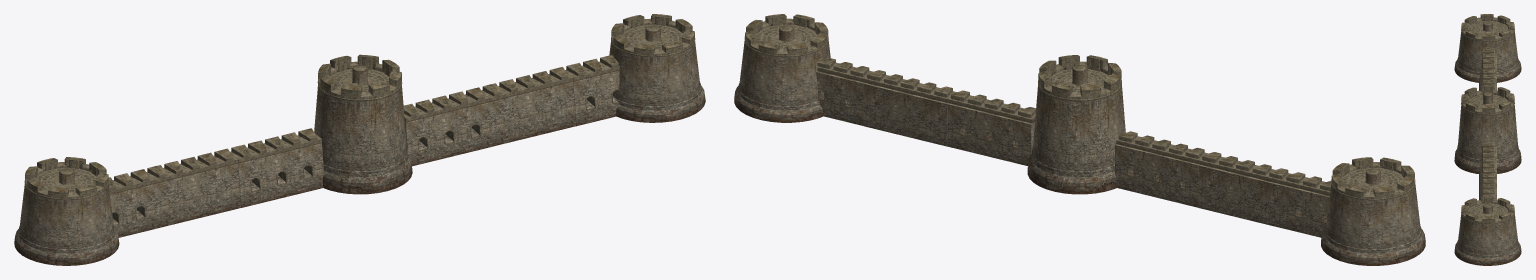
Rendered from curtain.glb.
3 views of the same model, side by side, from view 1: azimuth 30°, elevation 25°; view 2: azimuth 150°, elevation 25°; view 3: azimuth 270°, elevation 25° (orthographic). The views are drawn at different scales.
Parts seen in each view (by area): view 1: modular_fort_01_tower_round.001, modular_fort_01_tower_round.002, modular_fort_01_tower_round.003, modular_fort_01_wall_thick_straight_01.002, modular_fort_01_wall_thick_straight_01.001, modular_fort_01_wall_thick_straight_02.002, modular_fort_01_wall_thick_straight_02.003, modular_fort_01_wall_thick_straight_02.004, modular_fort_01_wall_thick_straight_02.001; view 2: modular_fort_01_tower_round.001, modular_fort_01_tower_round.002, modular_fort_01_tower_round.003, modular_fort_01_wall_thick_straight_02.003, modular_fort_01_wall_thick_straight_01.002, modular_fort_01_wall_thick_straight_01.001, modular_fort_01_wall_thick_straight_02.002, modular_fort_01_wall_thick_straight_02.004, modular_fort_01_wall_thick_straight_02.001; view 3: modular_fort_01_tower_round.001, modular_fort_01_tower_round.003, modular_fort_01_tower_round.002, modular_fort_01_wall_thick_straight_02.003, modular_fort_01_wall_thick_straight_01.002, modular_fort_01_wall_thick_straight_01.001, modular_fort_01_wall_thick_straight_02.001.
Boxes of the visible parts, <box> form: modular_fort_01_tower_round.001: <box>314,54,412,194</box>; modular_fort_01_tower_round.002: <box>14,157,119,265</box>; modular_fort_01_tower_round.003: <box>609,14,705,122</box>; modular_fort_01_wall_thick_straight_01.002: <box>481,67,576,146</box>; modular_fort_01_wall_thick_straight_01.001: <box>146,148,241,228</box>; modular_fort_01_wall_thick_straight_02.002: <box>230,128,323,207</box>; modular_fort_01_wall_thick_straight_02.003: <box>403,87,492,166</box>; modular_fort_01_wall_thick_straight_02.004: <box>565,55,619,126</box>; modular_fort_01_wall_thick_straight_02.001: <box>108,169,157,237</box>; modular_fort_01_tower_round.001: <box>1027,55,1125,194</box>; modular_fort_01_tower_round.002: <box>1321,157,1425,265</box>; modular_fort_01_tower_round.003: <box>734,14,830,122</box>; modular_fort_01_wall_thick_straight_02.003: <box>947,90,1035,165</box>; modular_fort_01_wall_thick_straight_01.002: <box>863,70,956,146</box>; modular_fort_01_wall_thick_straight_01.001: <box>1199,152,1291,228</box>; modular_fort_01_wall_thick_straight_02.002: <box>1115,131,1208,207</box>; modular_fort_01_wall_thick_straight_02.004: <box>816,57,872,125</box>; modular_fort_01_wall_thick_straight_02.001: <box>1282,172,1331,237</box>; modular_fort_01_tower_round.001: <box>1454,85,1521,173</box>; modular_fort_01_tower_round.003: <box>1454,196,1521,265</box>; modular_fort_01_tower_round.002: <box>1454,14,1521,82</box>; modular_fort_01_wall_thick_straight_02.003: <box>1479,141,1496,199</box>; modular_fort_01_wall_thick_straight_01.002: <box>1479,167,1496,199</box>; modular_fort_01_wall_thick_straight_01.001: <box>1480,63,1496,90</box>; modular_fort_01_wall_thick_straight_02.001: <box>1479,48,1496,90</box>.
Bounding box in the file's own units: 118 × 17.55 × 15.84.
2 materials, 2 textured.
